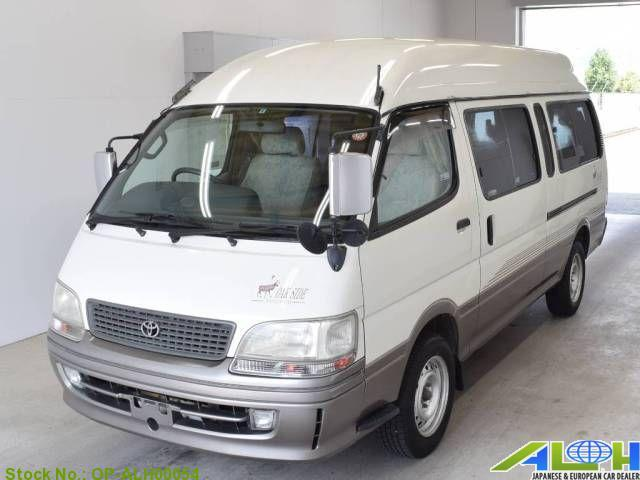van: (40, 36, 613, 461)
